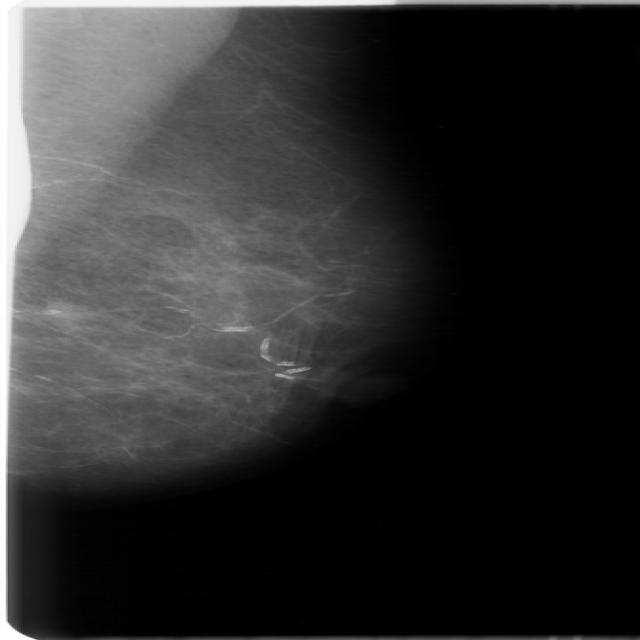tumour: (38, 298, 88, 326)
